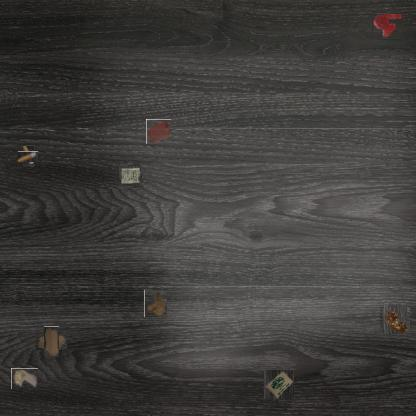dirty: (264, 369, 294, 399), (381, 306, 408, 333), (144, 289, 167, 317), (11, 368, 38, 389), (40, 330, 63, 354), (119, 165, 141, 187), (21, 149, 36, 164)
liquid: (372, 12, 402, 38), (146, 119, 171, 144)
